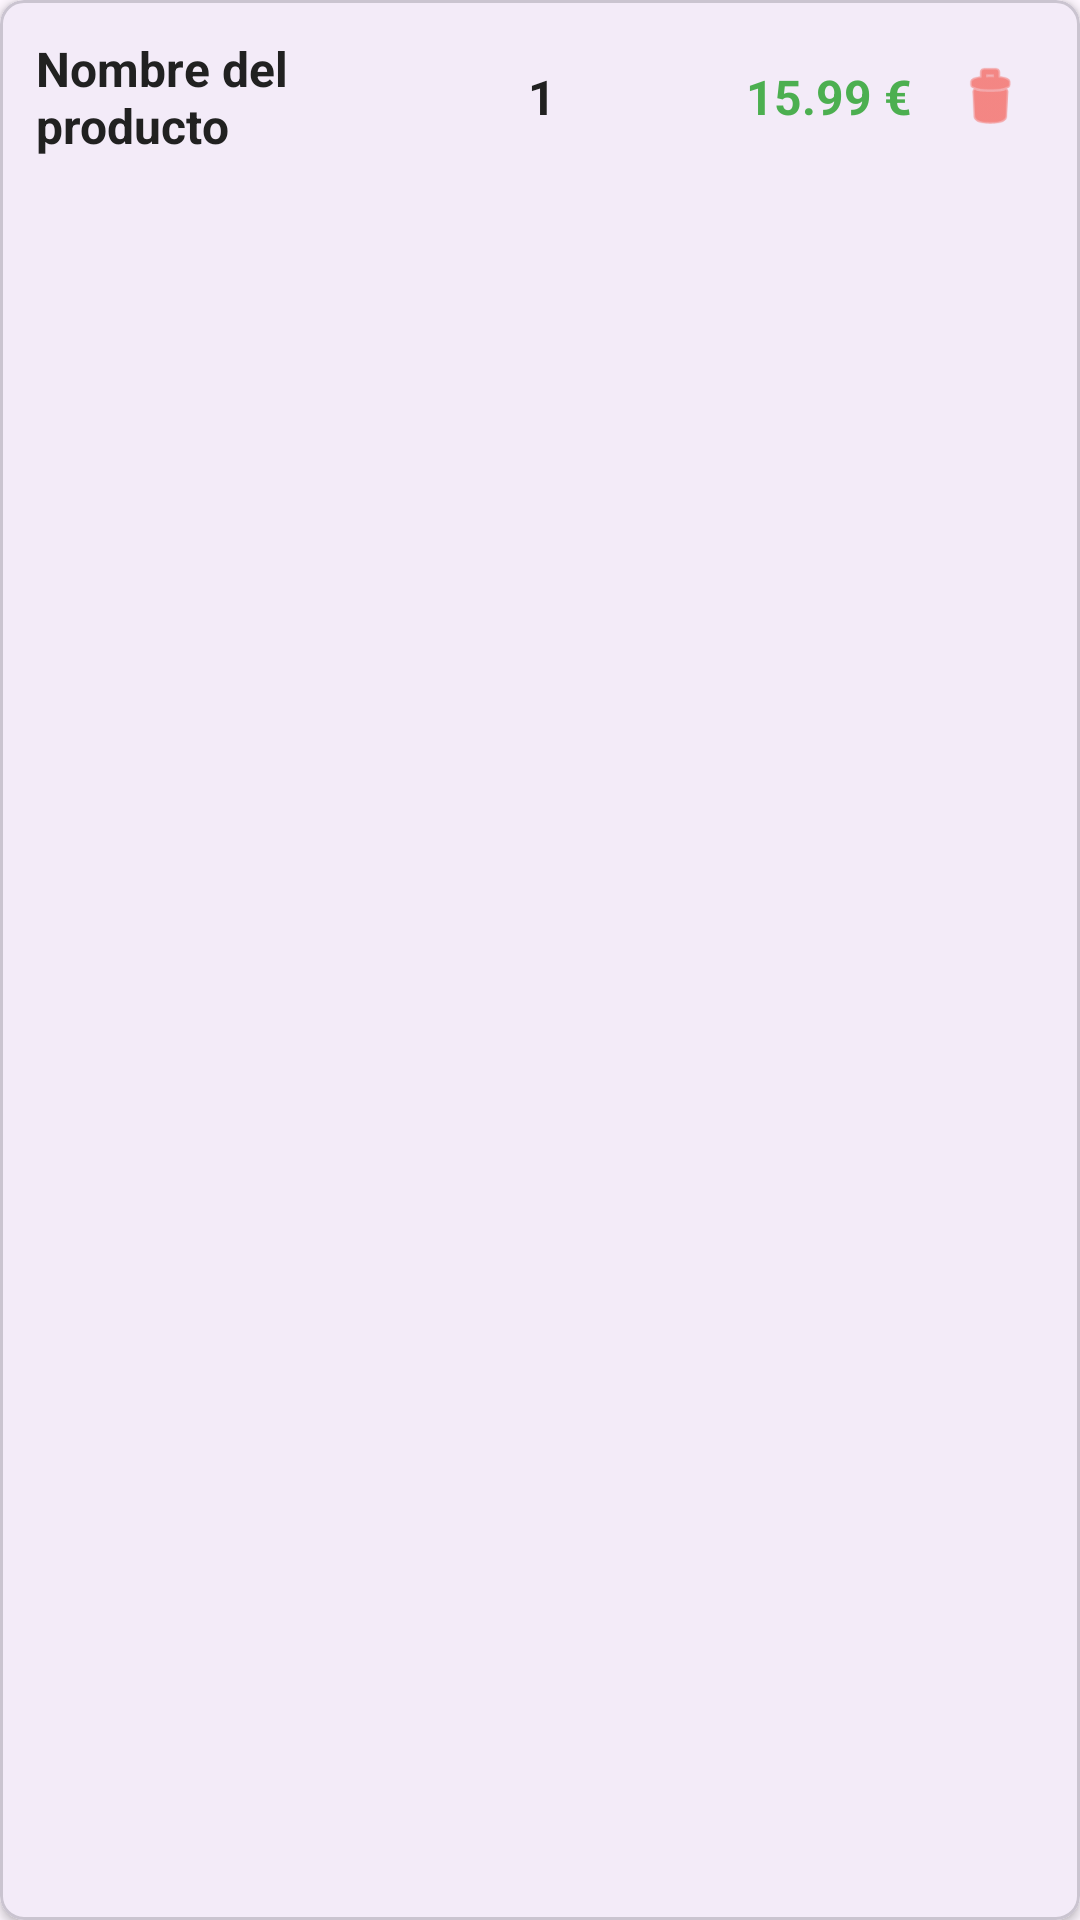

Where icons sit on this 1080 × 1920 app screen, as (x1, y1, x2, y2):
Eliminar producto: (970, 68, 1011, 124)
